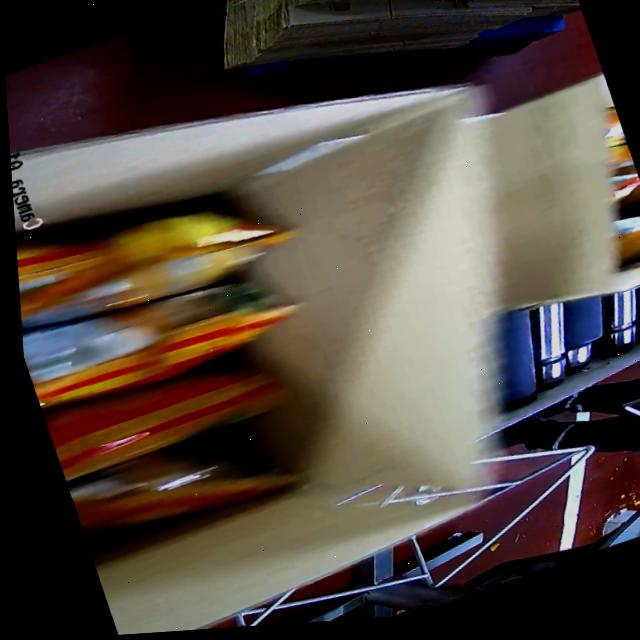FRENCH_CHEESE: (12, 154, 359, 565), (592, 100, 640, 277)
